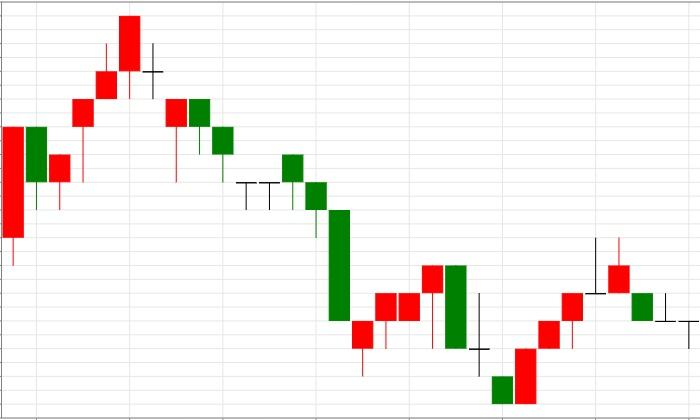three_white_soldiers_rise: (422, 264, 584, 404)
